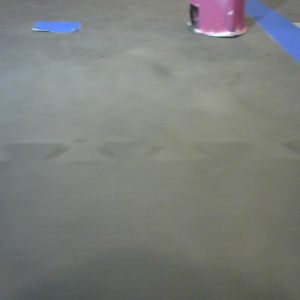right: (188, 1, 251, 39)
